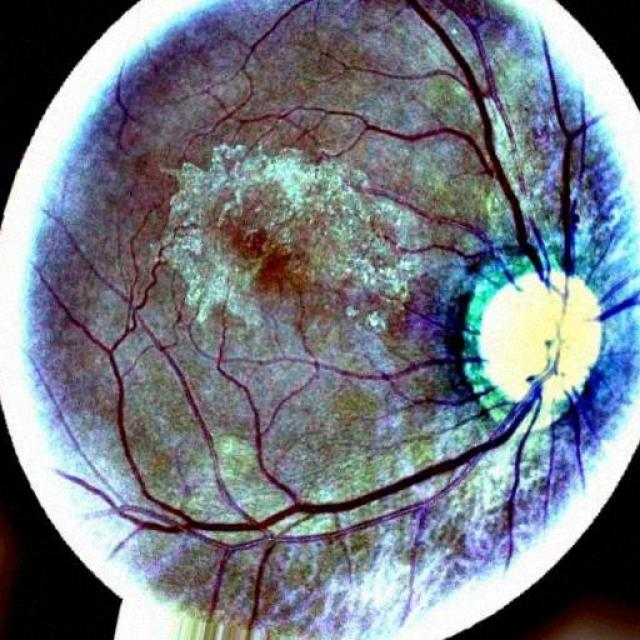Macula: (220, 218, 305, 295)
Nerves: (40, 246, 558, 634), (215, 0, 596, 314), (230, 328, 490, 408), (594, 290, 639, 320)
Optic Disk: (476, 271, 602, 416)
